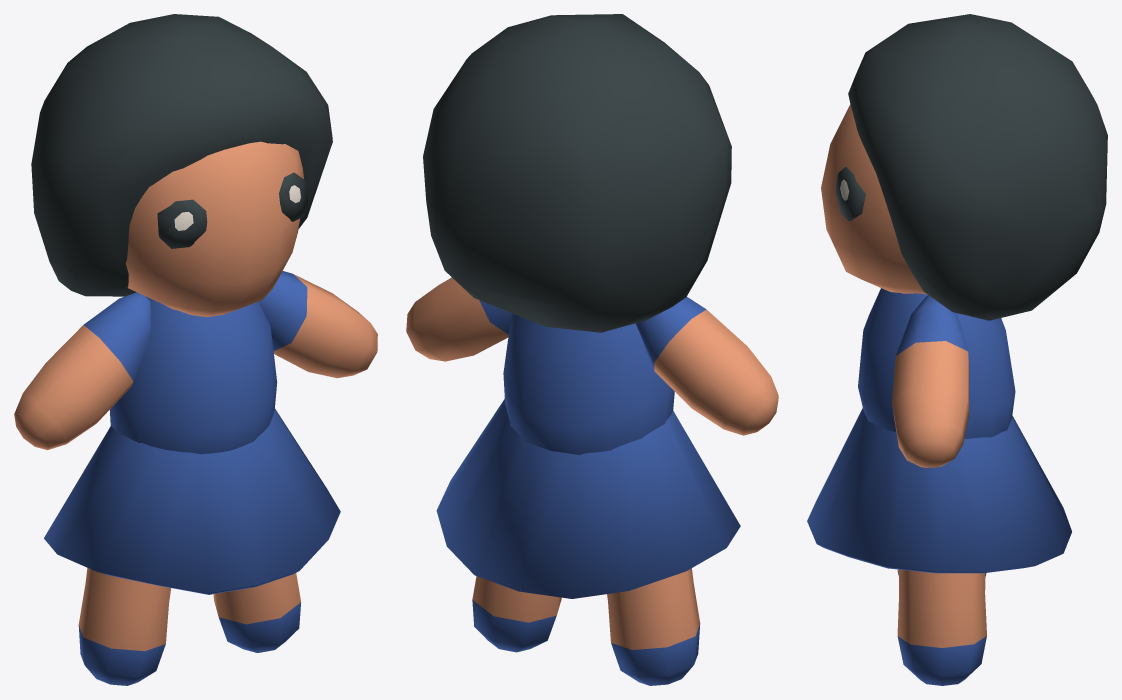
Rendered from Doll_03.fbx.
3 renders of one model, left to right at view 1: azimuth 30°, elevation 25°; view 2: azimuth 150°, elevation 25°; view 3: azimuth 270°, elevation 25°, orthographic. The views are drawn at different scales.
Parts seen in each view (by area): view 1: Doll_03; view 2: Doll_03; view 3: Doll_03.
Boxes of the visible parts, left/top/right/bottom form: Doll_03: left=14, top=14, right=377, bottom=685; Doll_03: left=406, top=14, right=778, bottom=685; Doll_03: left=807, top=14, right=1107, bottom=685.
Size of the model in its own units: 3.78 by 6.45 by 2.83.
